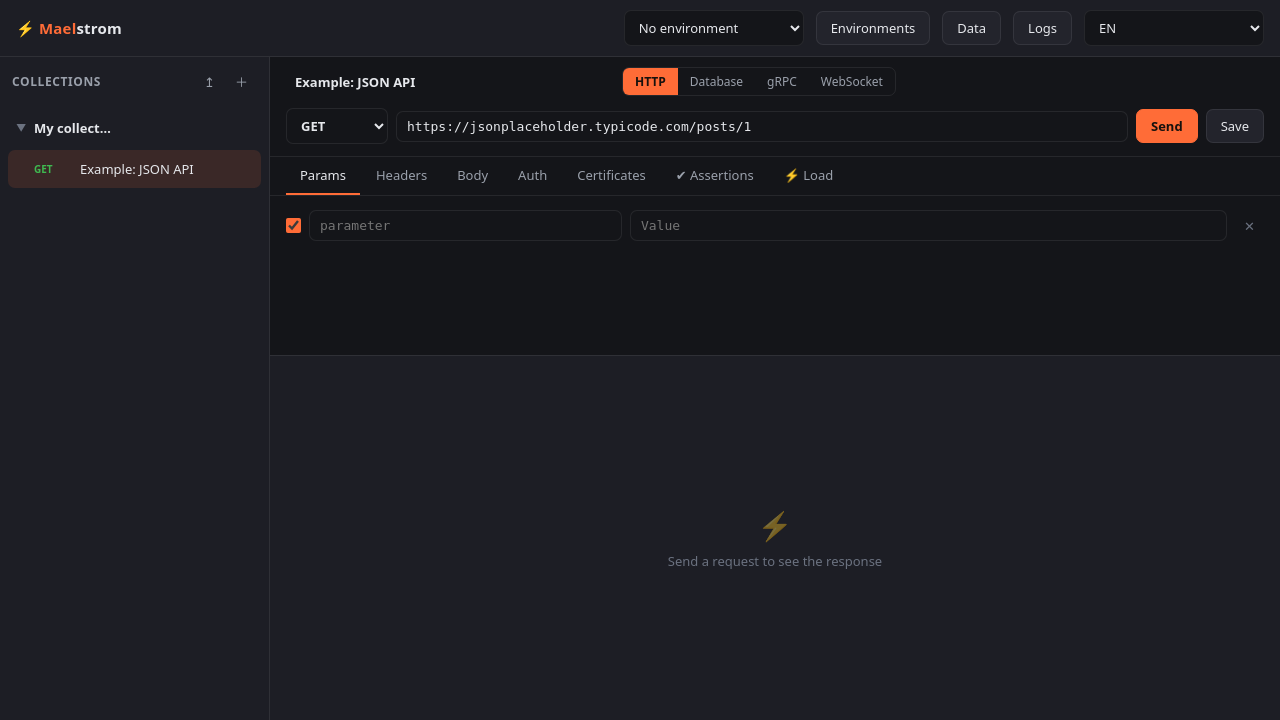
full flow: compose request → send → load test › sends the composed HTTP request and shows the response
// App loads the default example request into the URL field.
Replace the text in the field with placeholder "https://api.example.com/users?id={{user_id}}" with "https://api.example.com/users/1": (762, 126) [396,110,1128,142]
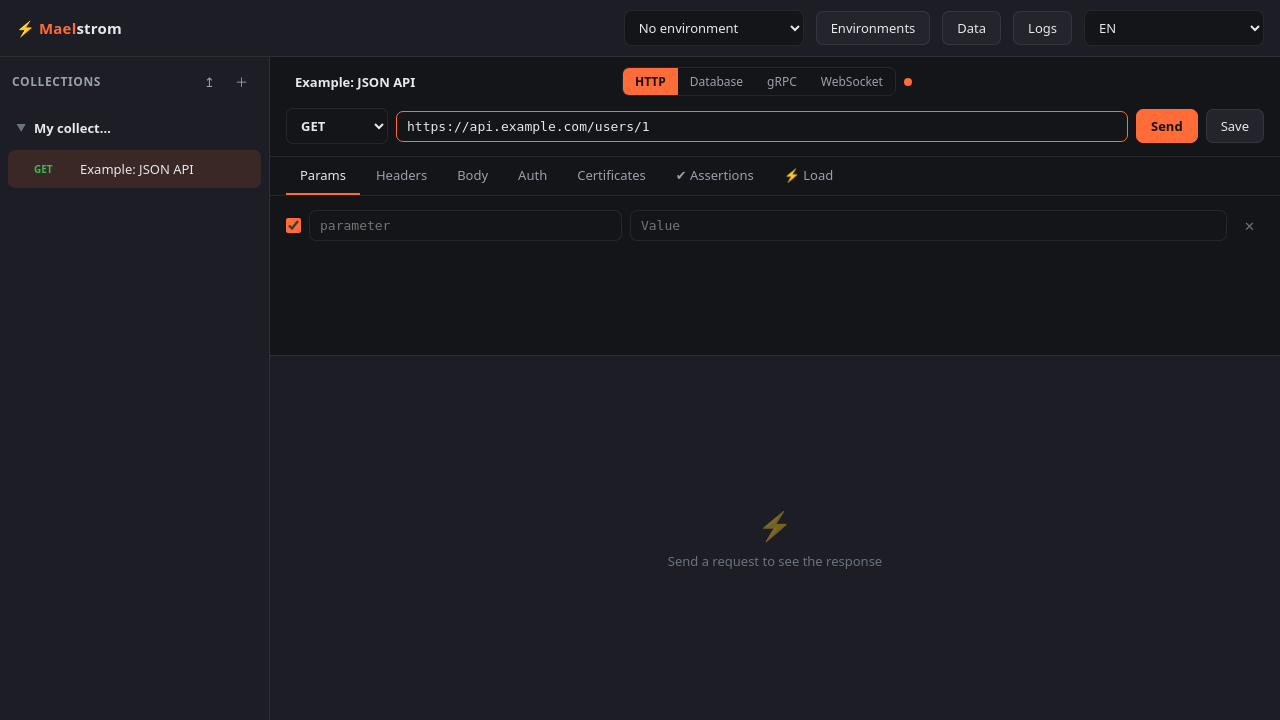
Click the button "Send": click(1167, 126) [1136,109,1198,143]
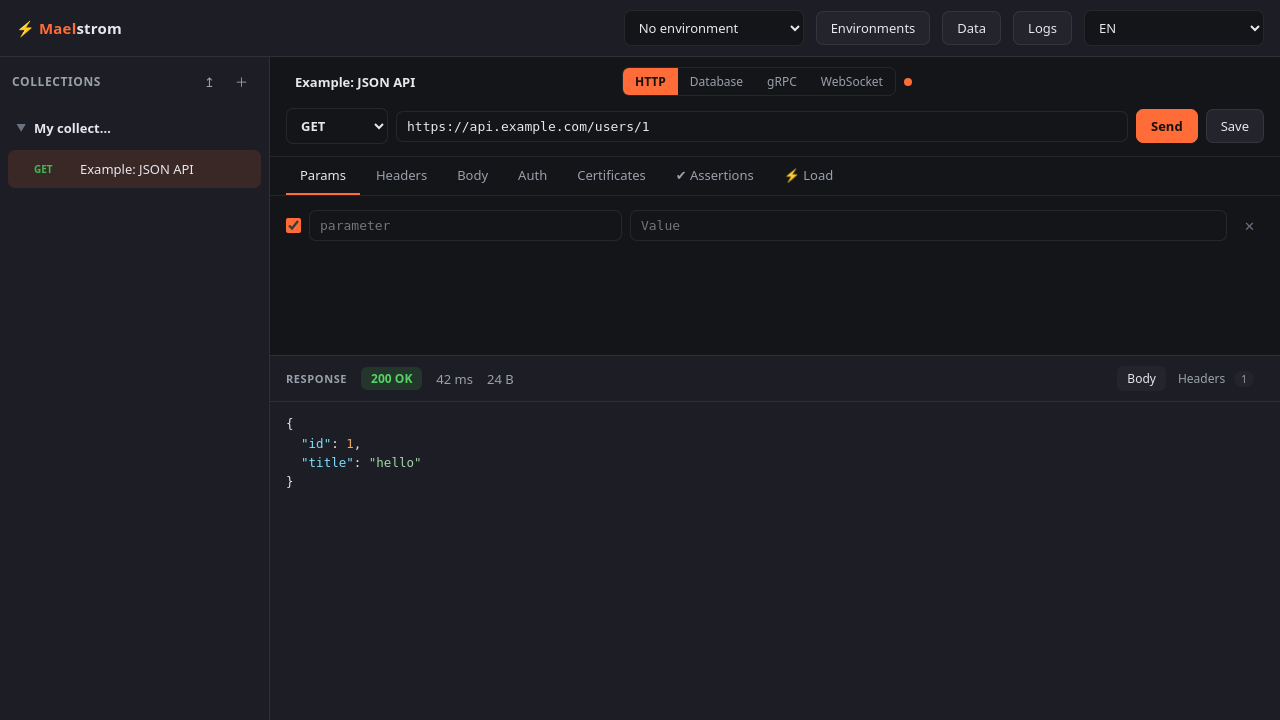
Result: the text "200 OK" is shown at [361,367,422,390]
Result: the text "\"hello\"" is shown at [369,455,422,470]
